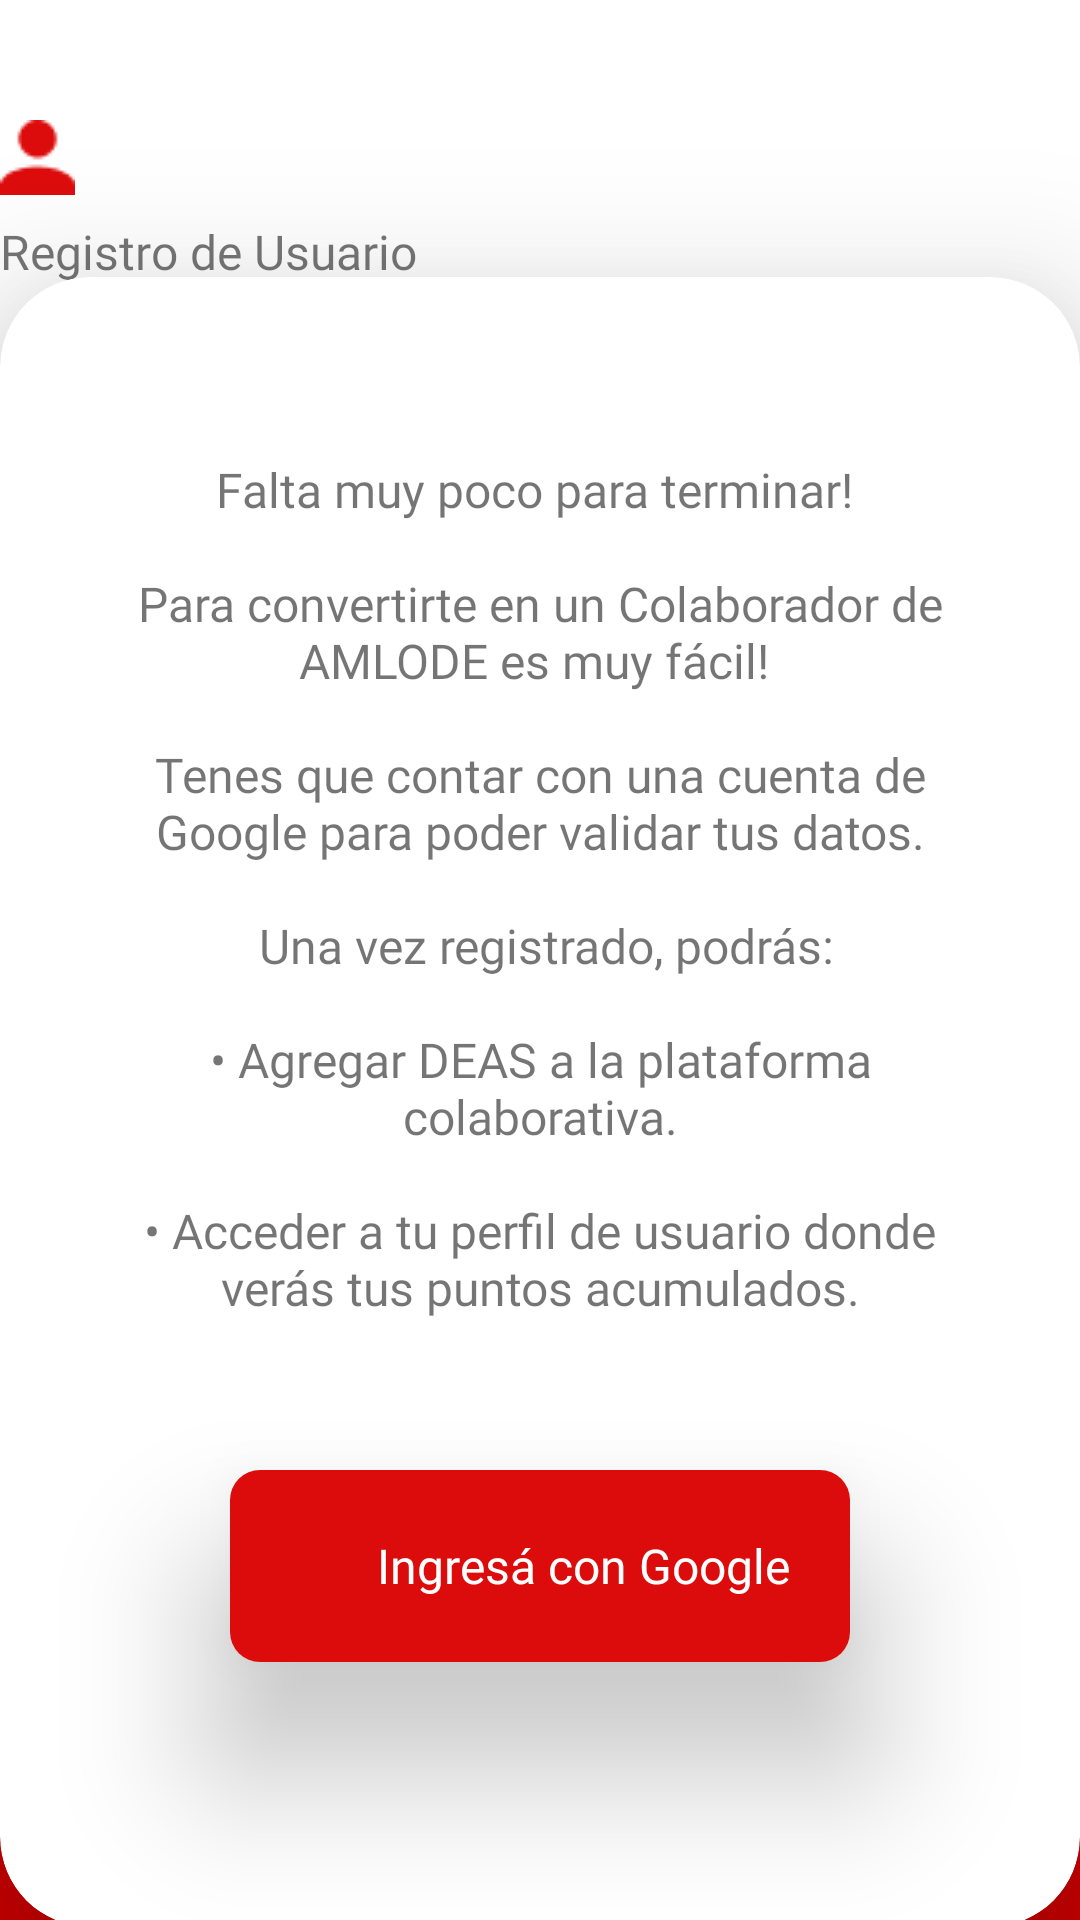

Screen size 1080w x 1920h. Icon name, then its box in pixels as (x1, y1, x2, y2):
user: (0, 120, 75, 195)
